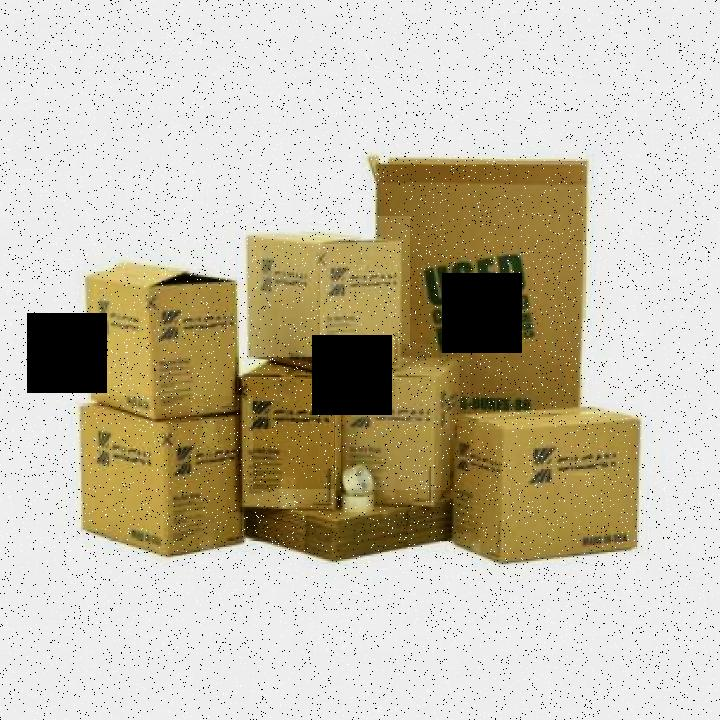box: (364, 149, 596, 429), (450, 405, 652, 571), (69, 396, 253, 570), (82, 237, 240, 422), (241, 216, 410, 376), (335, 344, 470, 530), (235, 357, 347, 511), (245, 490, 451, 566)
